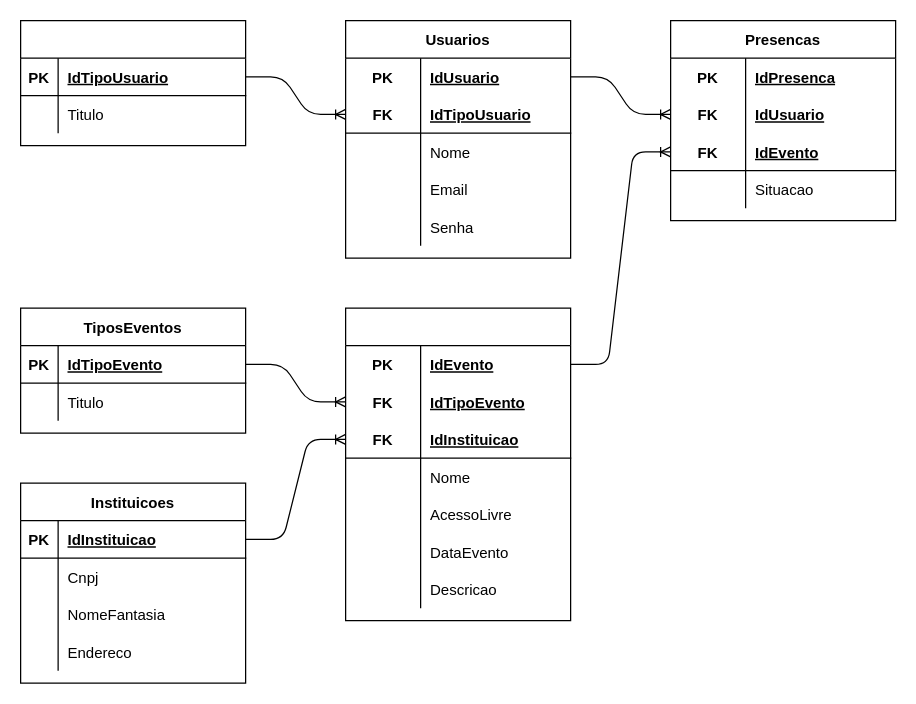
Some shapes in this 916 by 704 pixel diagram are drawn without their labels. The shapes that lost their labels are listed below. From the top down, each one's box as (x1, y1, x2, y2) in pixels, then its label:
(19, 19, 246, 146): TiposUsuarios
(344, 307, 571, 621): Eventos
